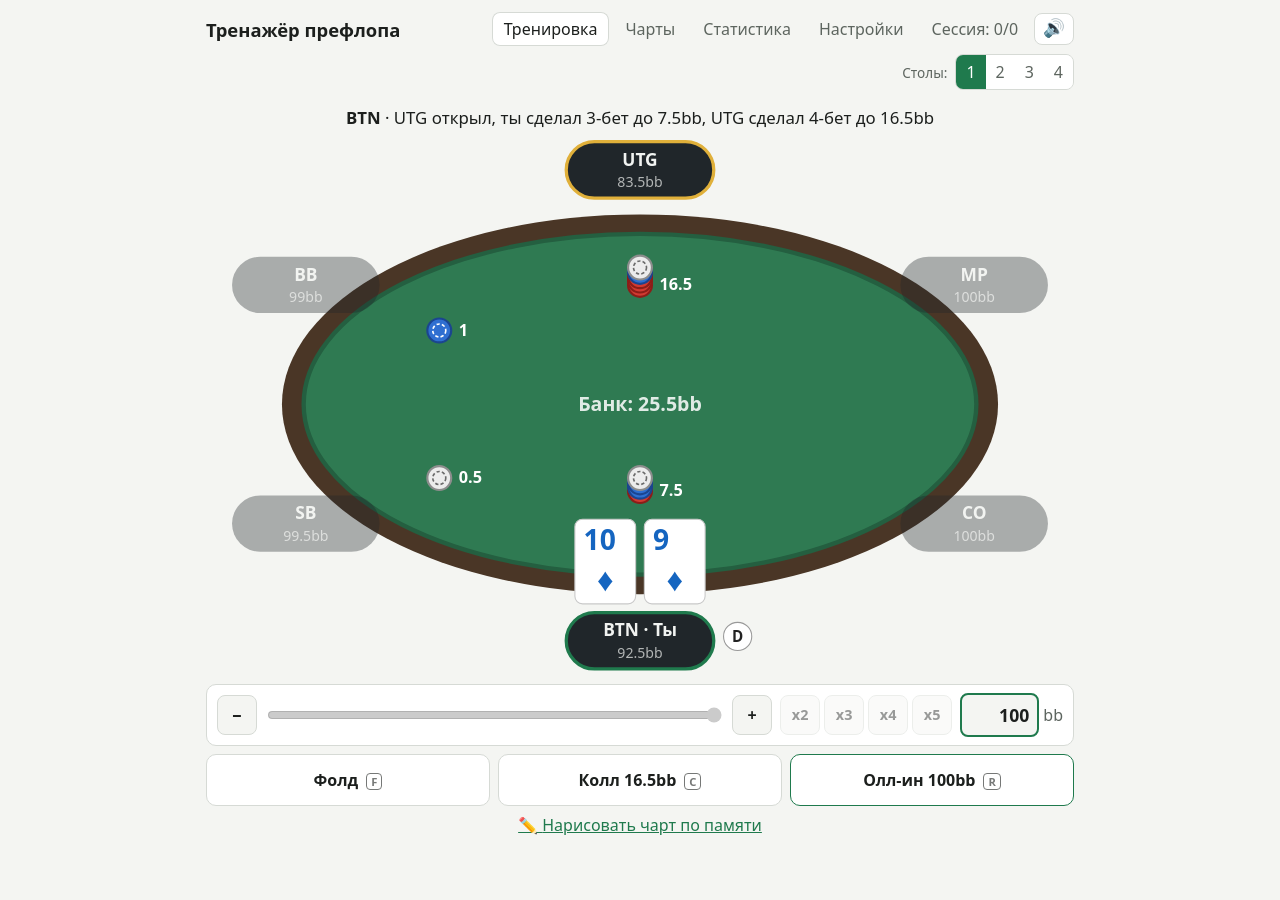
Test: App › explains a wrong action and shows the spot chart with the hand outlined
The width and height of the screenshot is (1280, 900).
Click the button "Колл 16.5bbC" at coordinates (640, 780), box [498,754,782,806]
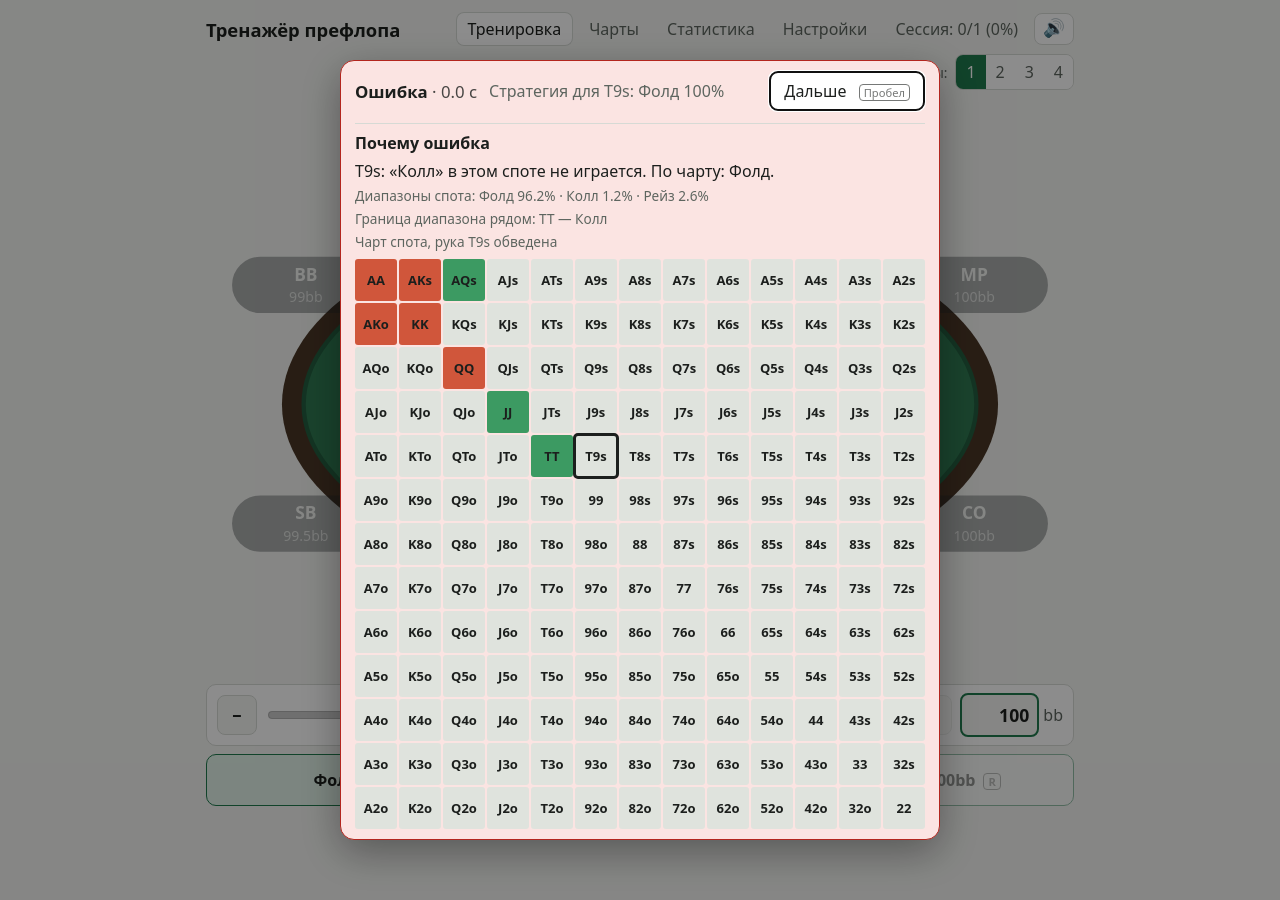
Expected: the text with test id "why-reason" shows "T9s", [355,160,774,182]
